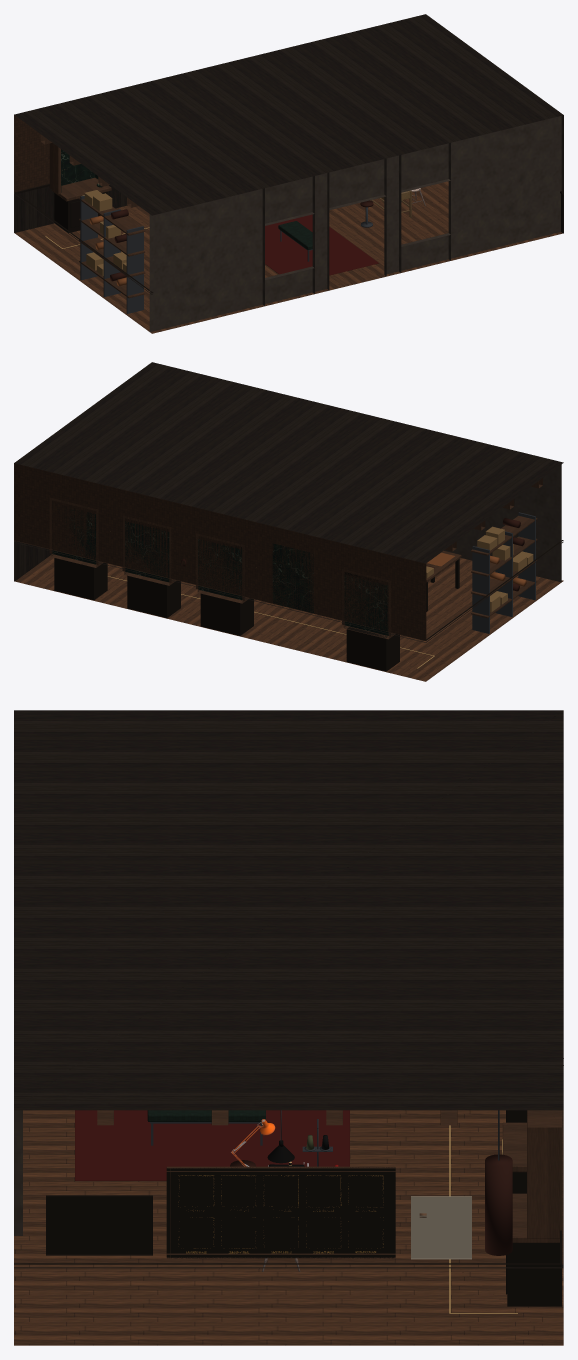
Rendered from workshop.glb.
The picture shows the model from 3 angles, top to bottom: view 1: azimuth 30°, elevation 25°; view 2: azimuth 150°, elevation 25°; view 3: azimuth 270°, elevation 25°; orthographic projection. The views are drawn at different scales.
Visible parts, largest first — view 1: WS_wall_panelling, WS_plaster, WS_floor_boards, WS_rug, WS_steel, WS_aged_timber, WS_woven_timber, WS_dark_joinery, WS_kraft_box, WS_green_marble, WS_woven_leather, WS_leather_roll_dark; view 2: WS_wall_panelling, WS_woven_timber, WS_floor_boards, WS_green_marble, WS_dark_joinery, WS_aged_timber, WS_plaster, WS_steel, WS_kraft_box, WS_leather_roll; view 3: WS_wall_panelling, WS_floor_boards, WS_dark_joinery, WS_rug, WS_aged_timber, WS_tool_board, WS_leather_roll_dark, WS_woven_leather, WS_plaster.
Boxes of the visible parts, bbox=[...] form: WS_wall_panelling: bbox=[14, 14, 563, 294]; WS_plaster: bbox=[14, 115, 563, 331]; WS_floor_boards: bbox=[14, 181, 563, 333]; WS_rug: bbox=[265, 214, 378, 275]; WS_steel: bbox=[80, 195, 372, 313]; WS_aged_timber: bbox=[40, 134, 145, 298]; WS_woven_timber: bbox=[14, 115, 49, 192]; WS_dark_joinery: bbox=[14, 184, 563, 292]; WS_kraft_box: bbox=[84, 190, 126, 276]; WS_green_marble: bbox=[61, 149, 102, 192]; WS_woven_leather: bbox=[278, 221, 312, 249]; WS_leather_roll_dark: bbox=[110, 200, 373, 281]; WS_wall_panelling: bbox=[14, 362, 563, 642]; WS_woven_timber: bbox=[14, 463, 426, 640]; WS_floor_boards: bbox=[14, 555, 563, 681]; WS_green_marble: bbox=[52, 507, 388, 635]; WS_dark_joinery: bbox=[15, 520, 563, 671]; WS_aged_timber: bbox=[49, 478, 542, 639]; WS_plaster: bbox=[14, 463, 561, 582]; WS_steel: bbox=[472, 512, 535, 633]; WS_kraft_box: bbox=[426, 526, 533, 612]; WS_leather_roll: bbox=[427, 552, 526, 586]; WS_wall_panelling: bbox=[14, 710, 563, 1268]; WS_floor_boards: bbox=[14, 1110, 563, 1345]; WS_dark_joinery: bbox=[14, 1110, 561, 1306]; WS_rug: bbox=[75, 1110, 349, 1180]; WS_aged_timber: bbox=[97, 1110, 561, 1258]; WS_tool_board: bbox=[411, 1196, 471, 1259]; WS_leather_roll_dark: bbox=[230, 1058, 563, 1255]; WS_woven_leather: bbox=[147, 1110, 265, 1121]; WS_plaster: bbox=[14, 1110, 22, 1235].
Bounding box in the file's own units: 12.4 × 3.4 × 7.2.
Materials: 54 (12 with a texture image).
